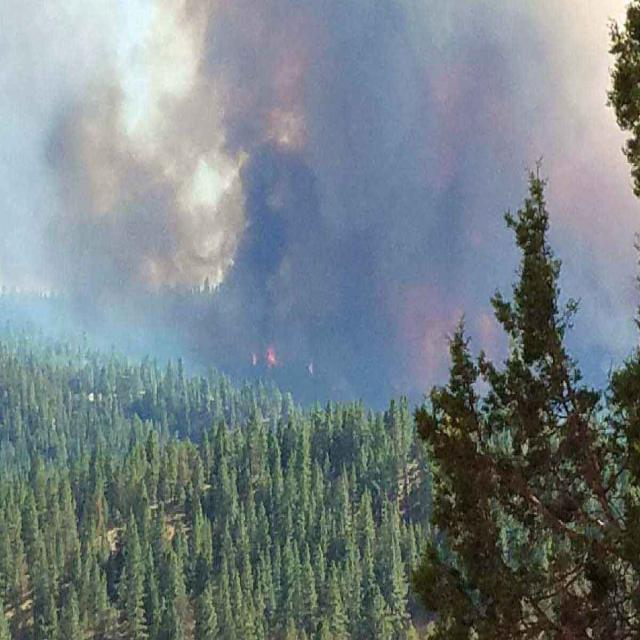Smoke: (60, 0, 640, 362)
